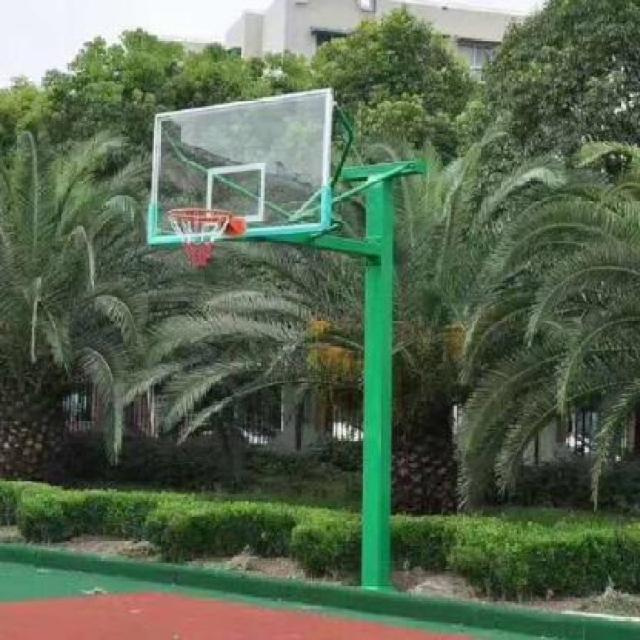rim: (165, 208, 231, 266)
